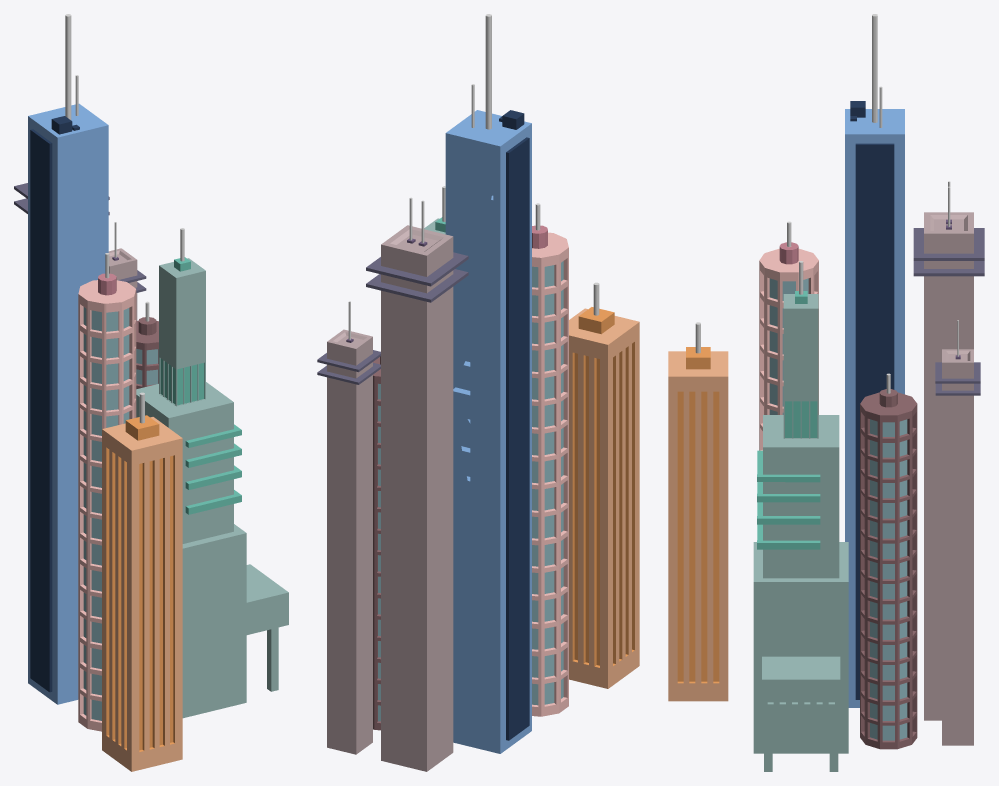
File: Buildings.fbx
3 renders of one model, left to right at view 1: azimuth 30°, elevation 25°; view 2: azimuth 150°, elevation 25°; view 3: azimuth 270°, elevation 25°, orthographic. The views are drawn at different scales.
Visible parts, largest first — view 1: Cube.003, Cube.001, OrangeBuilding, Cylinder, Cylinder.001, Cube.005; view 2: Cube.003, Cube.013, OrangeBuilding, Cube.005, Cylinder, Cylinder.001; view 3: Cube.001, Cube.003, OrangeBuilding, Cylinder.001, Cube.013, Cube.005, Cylinder.
Part boxes in pixels (x1,y1,x2,y2): Cube.003: (28,14,108,704); Cube.001: (136,228,288,718); OrangeBuilding: (102,392,182,771); Cylinder: (78,253,136,731); Cylinder.001: (136,301,158,389); Cube.005: (108,222,146,320); Cube.003: (445,14,531,753); Cube.013: (366,197,468,771); OrangeBuilding: (569,282,639,688); Cube.005: (317,301,380,754); Cylinder: (532,203,568,716); Cylinder.001: (373,356,380,730); Cube.001: (753,261,848,771); Cube.003: (845,14,904,707); OrangeBuilding: (668,322,728,701); Cylinder.001: (860,373,917,749); Cube.013: (913,181,984,720); Cube.005: (935,320,980,745); Cylinder: (759,221,818,450).
Size of the model in its own units: 39.8 by 126 by 52.9.
